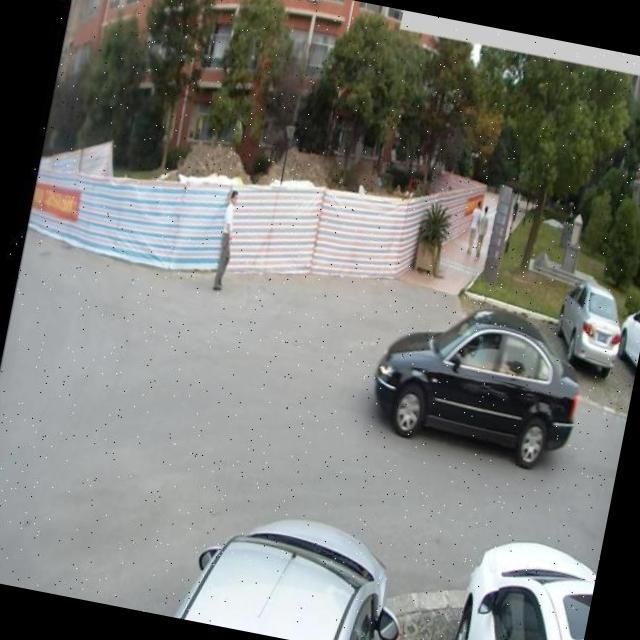person: (208, 186, 248, 296), (460, 199, 484, 260), (473, 204, 494, 263)
